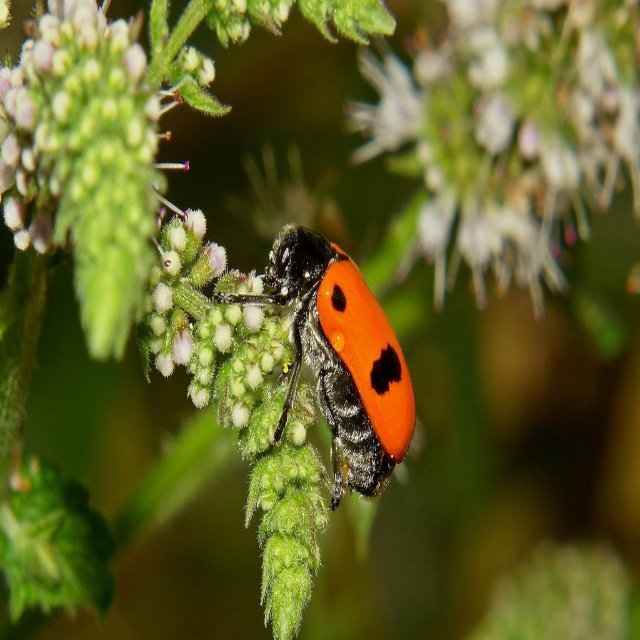Ladybug: (210, 220, 419, 511)
